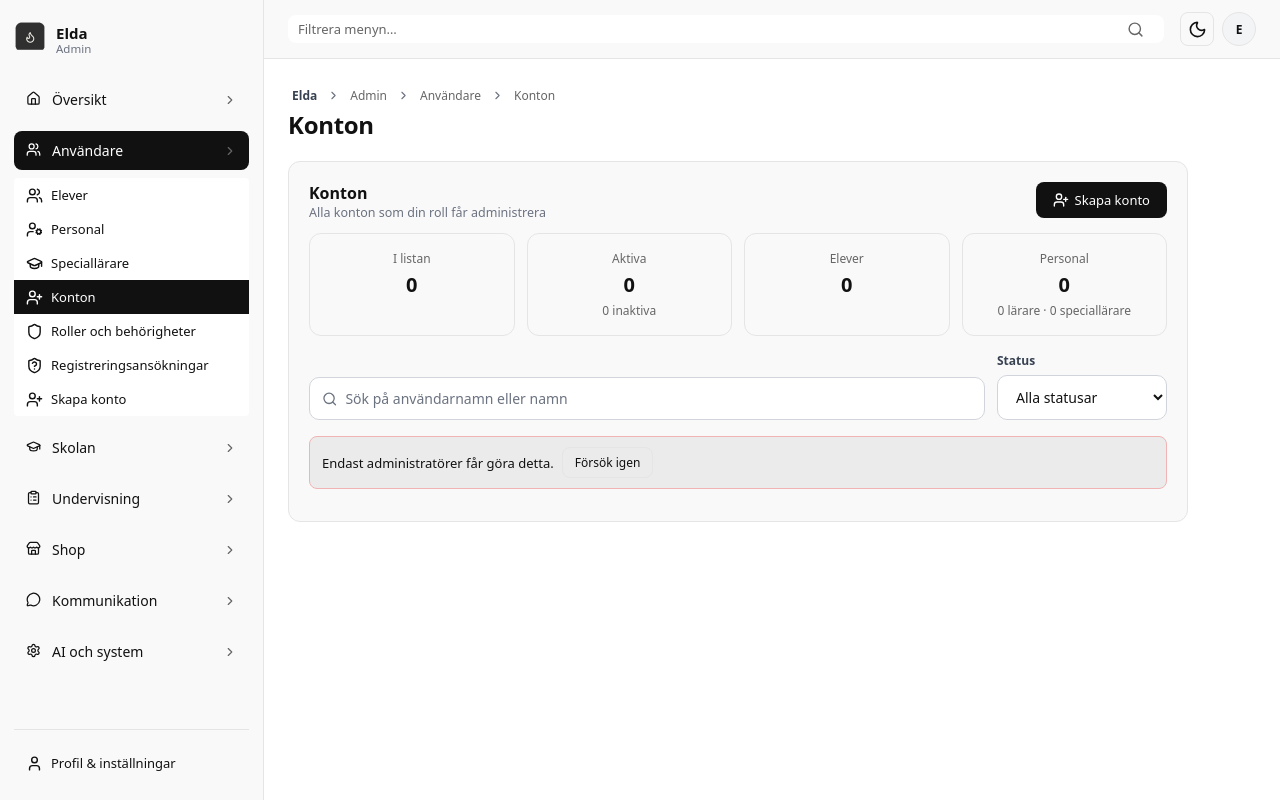
it: kontolistan › visar felmeddelande och kan försöka igen när hämtningen misslyckas
The width and height of the screenshot is (1280, 800).
Expected: the message "Endast administratörer får göra detta. Försök igen" is shown, [309,436,1167,489]
Expected: the text "Endast administratörer får göra detta." is shown, [322,454,554,472]
Click the button "Försök igen": (608, 462) [562,447,653,478]
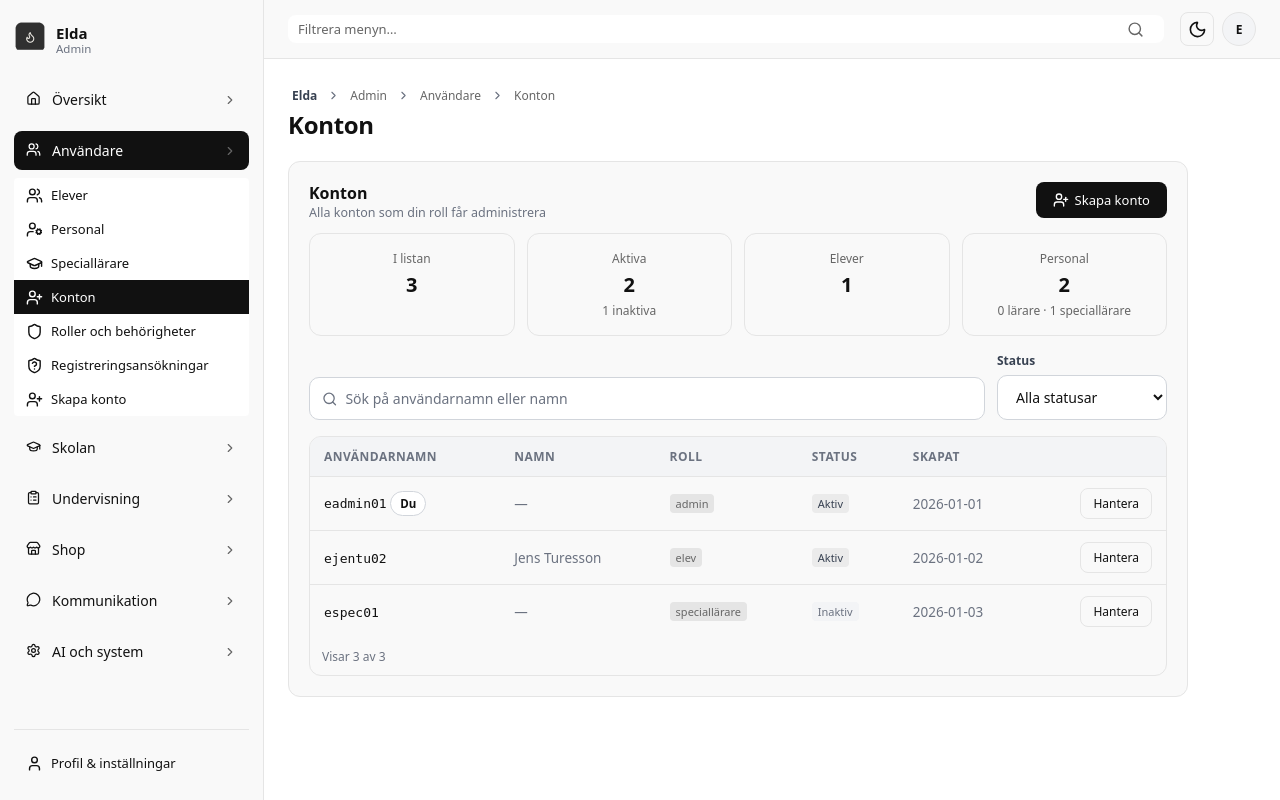
Now the table is shown, box [310,437,1166,675]
